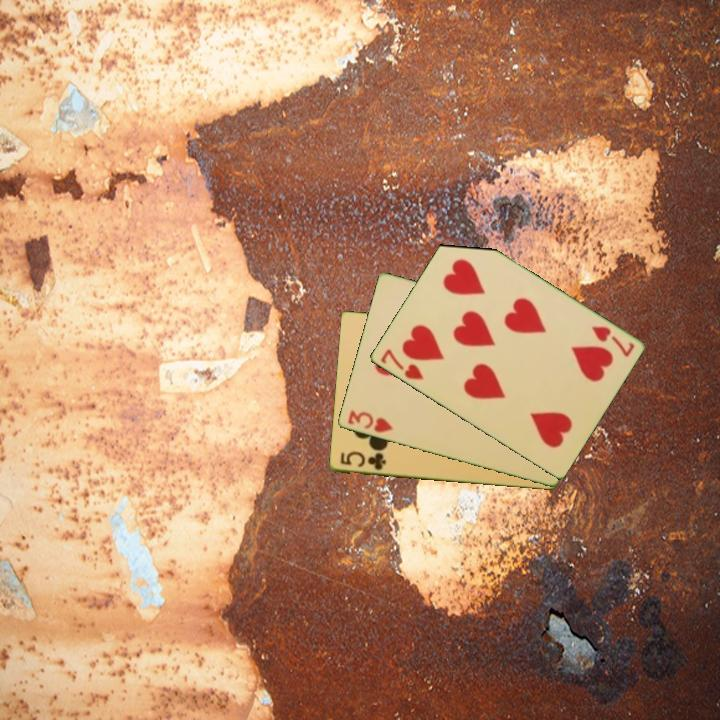3h: (344, 407, 396, 436)
5c: (336, 448, 389, 473)
7h: (587, 322, 637, 360), (376, 346, 426, 383)
